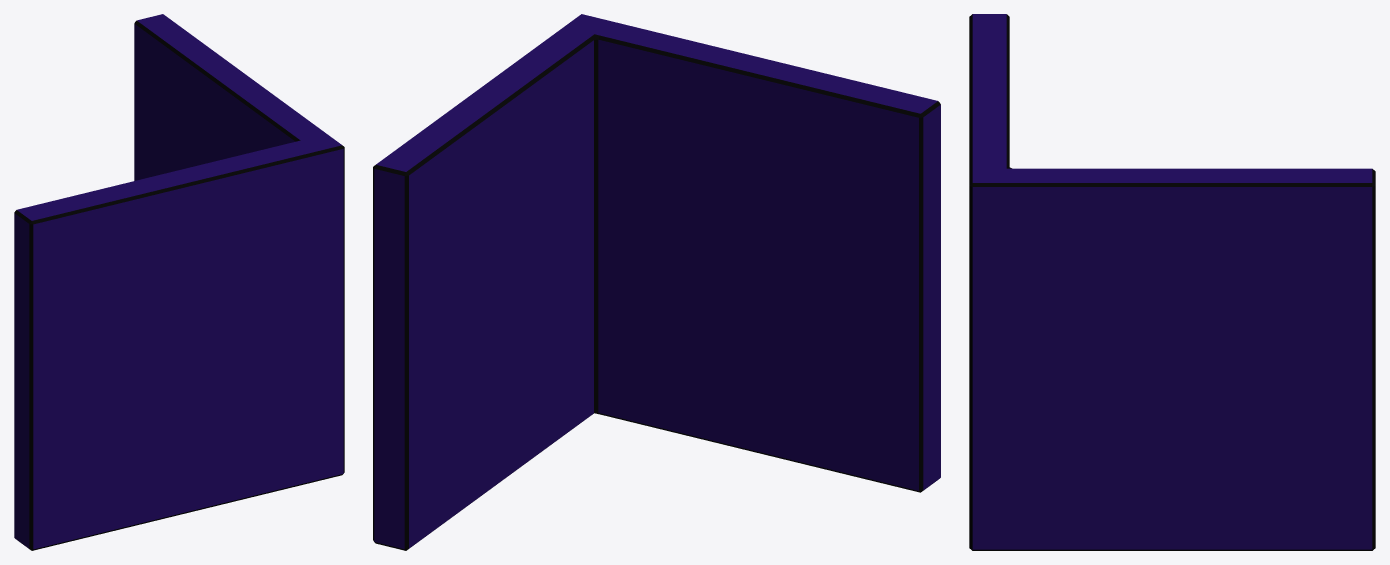
The model's file is thin_wall_corner.glb.
3 renders of one model, left to right at view 1: azimuth 30°, elevation 25°; view 2: azimuth 150°, elevation 25°; view 3: azimuth 270°, elevation 25°, orthographic. The views are drawn at different scales.
Parts seen in each view (by area): view 1: Cube; view 2: Cube; view 3: Cube.
Part boxes in pixels (box(x1,y1,x2,y2)): Cube: box(14, 14, 344, 550); Cube: box(373, 14, 940, 550); Cube: box(969, 14, 1375, 550).
Size of the model in its own units: 1 by 1 by 1.
Materials: 2 (1 with a texture image).
